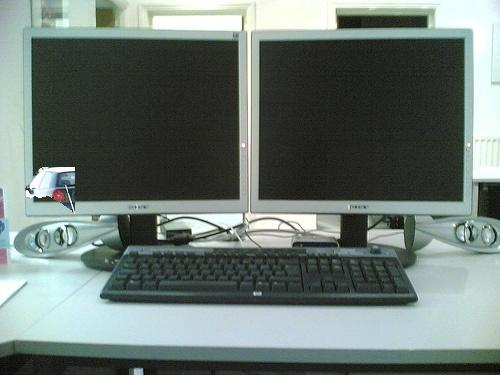tampered: (26, 168, 75, 214)
